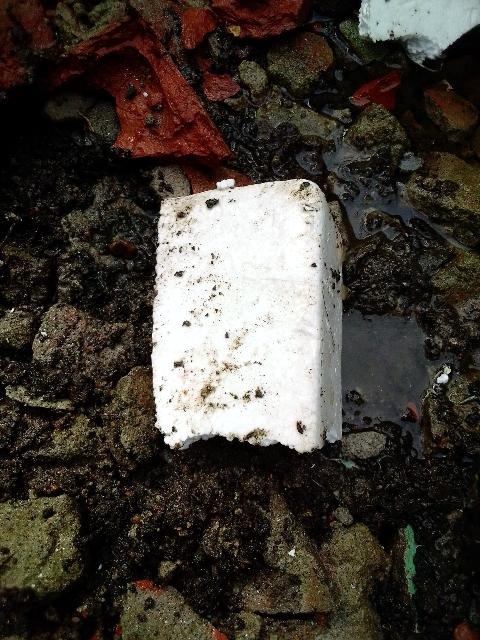cocksheet: (153, 186, 338, 463)
